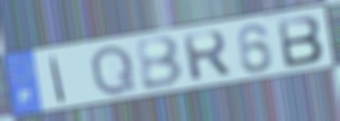6: (235, 21, 274, 75)
B: (132, 34, 186, 93), (274, 13, 326, 70)
I: (47, 54, 67, 104)
Q: (88, 43, 139, 98)
R: (180, 28, 234, 83)
